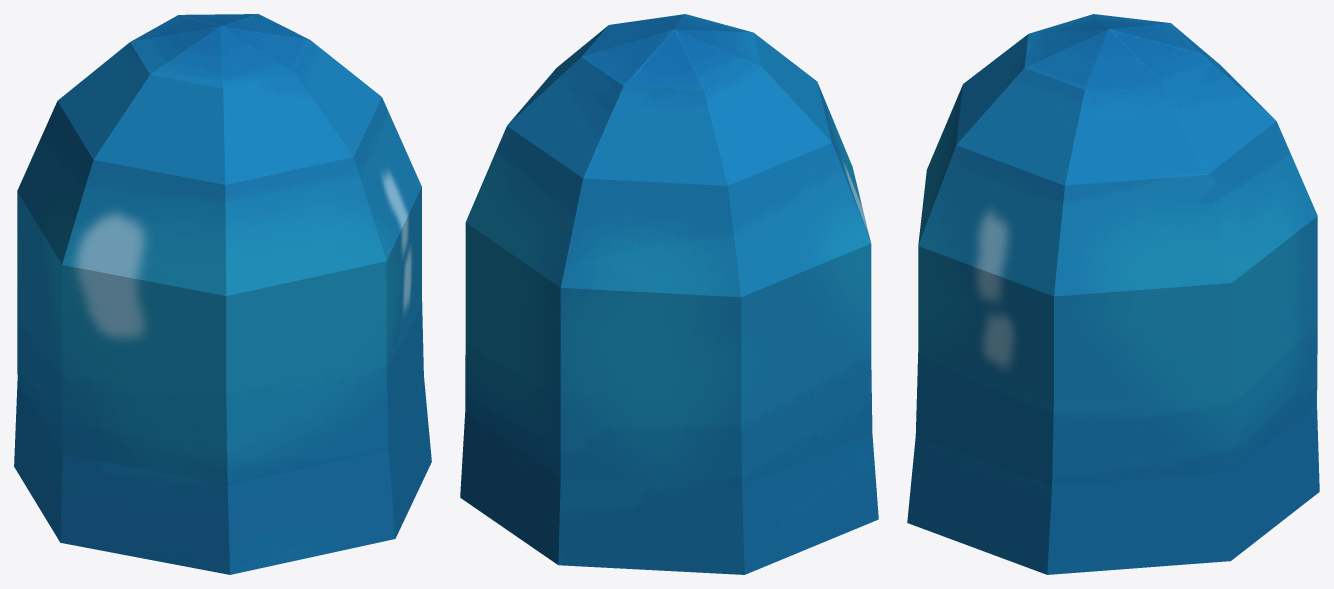
The model's file is Blob.fbx.
3 renders of one model, left to right at view 1: azimuth 30°, elevation 25°; view 2: azimuth 150°, elevation 25°; view 3: azimuth 270°, elevation 25°, orthographic.
Parts seen in each view (by area): view 1: pSphere1; view 2: pSphere1; view 3: pSphere1.
Boxes of the visible parts, x1,y1,x2,y2 form: pSphere1: [14, 14, 431, 574]; pSphere1: [460, 14, 878, 574]; pSphere1: [907, 14, 1319, 574].
Bounding box in the file's own units: 41.61 × 50.19 × 41.01.
Materials: 1 (1 with a texture image).
